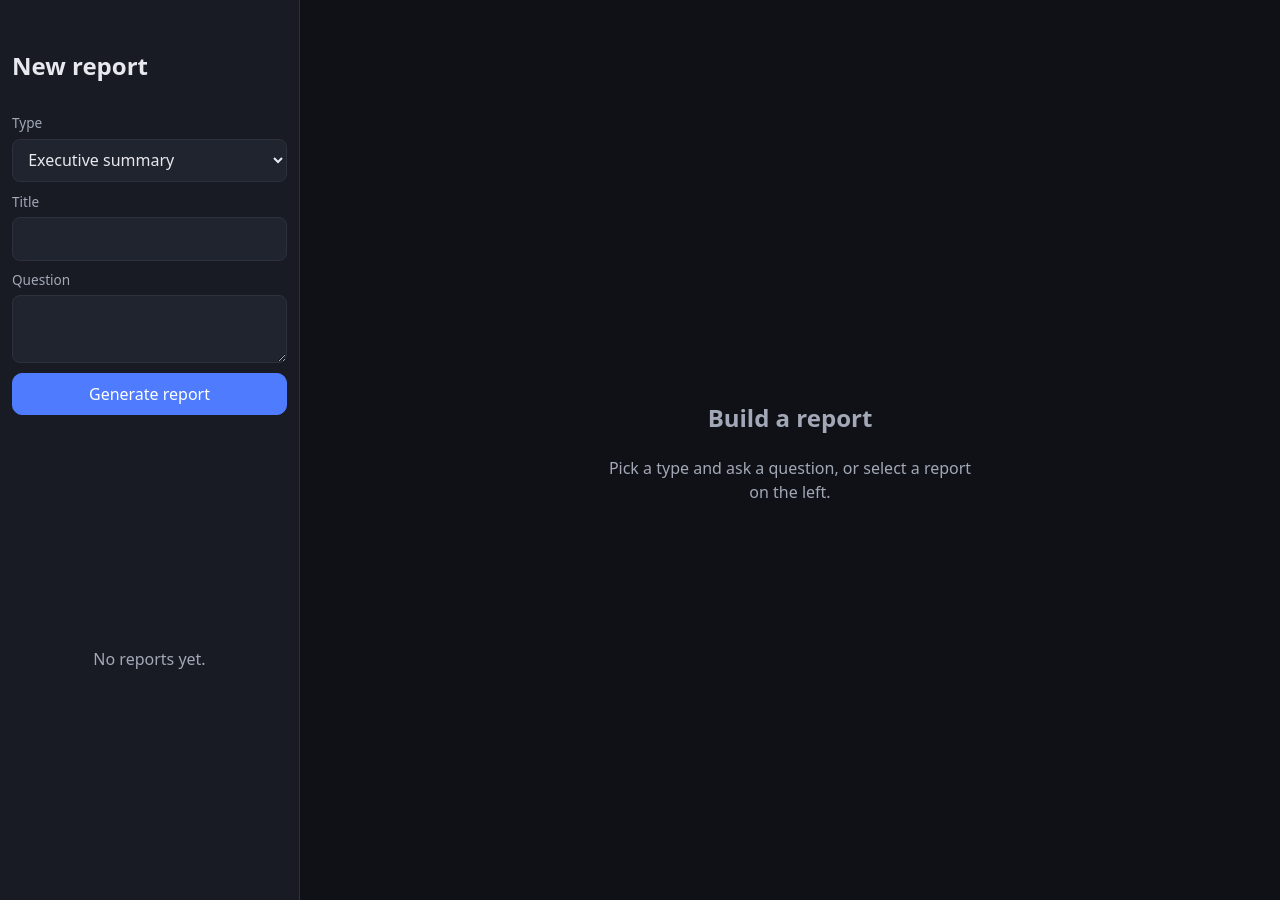
Scenario: report builder › has no axe violations on a ready report
Select "Executive summary" in the dropdown labelled "Type" at (150, 160), box [12,139,287,182]
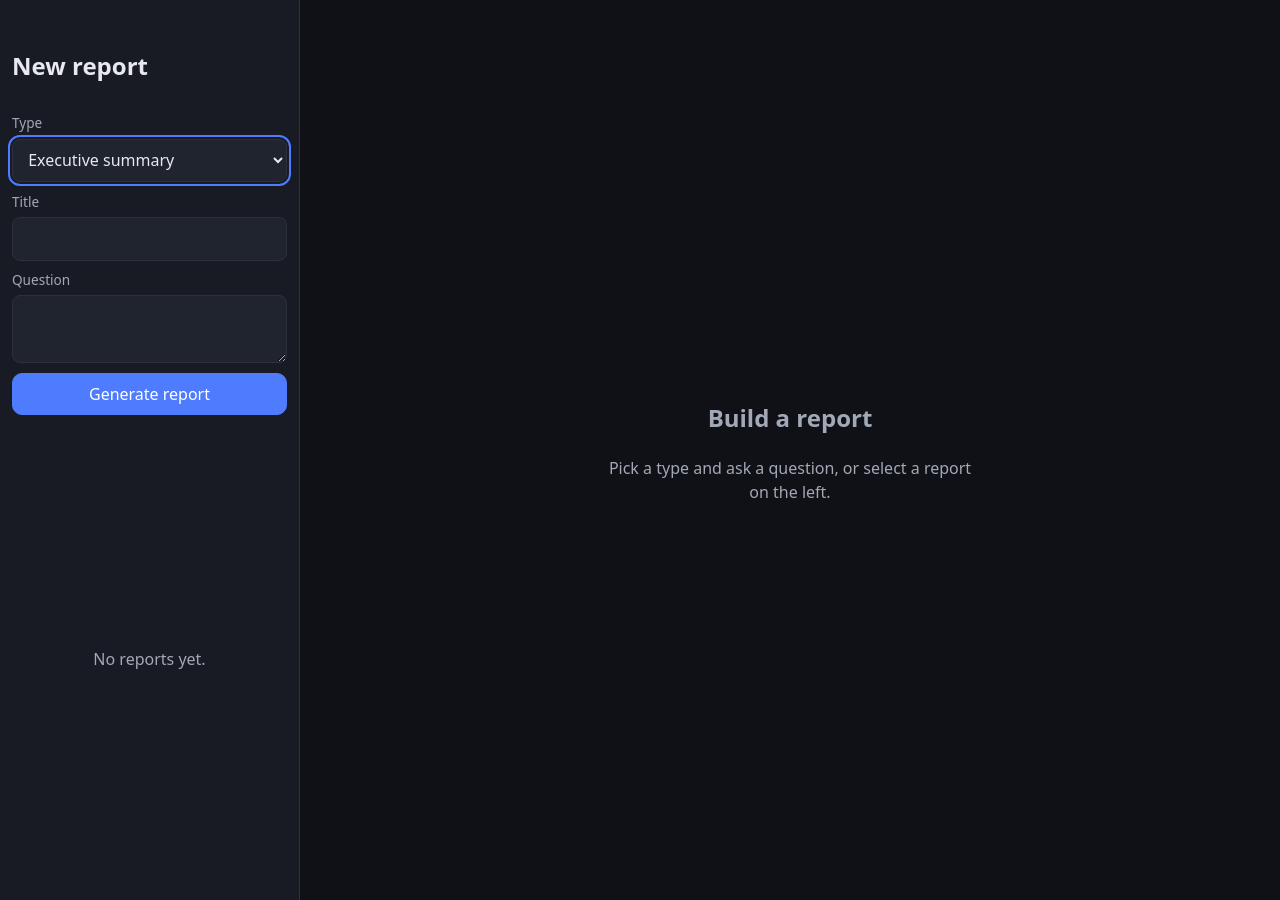
Type "Q3 Review" into the field labelled "Title" at (150, 239), box [12,217,287,261]
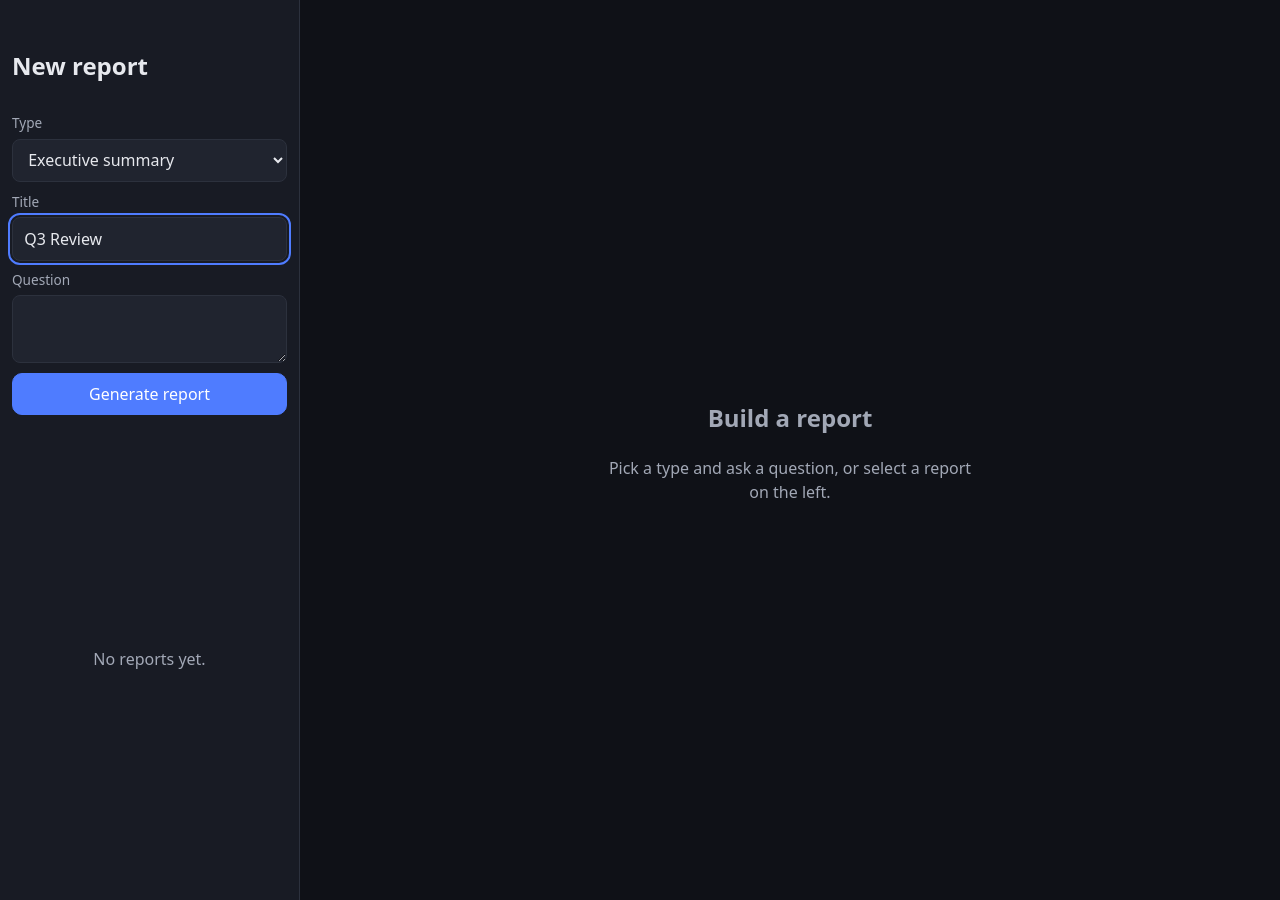
Type "summarize Q3" into the text box labelled "Question" at (150, 329), box [12,295,287,363]
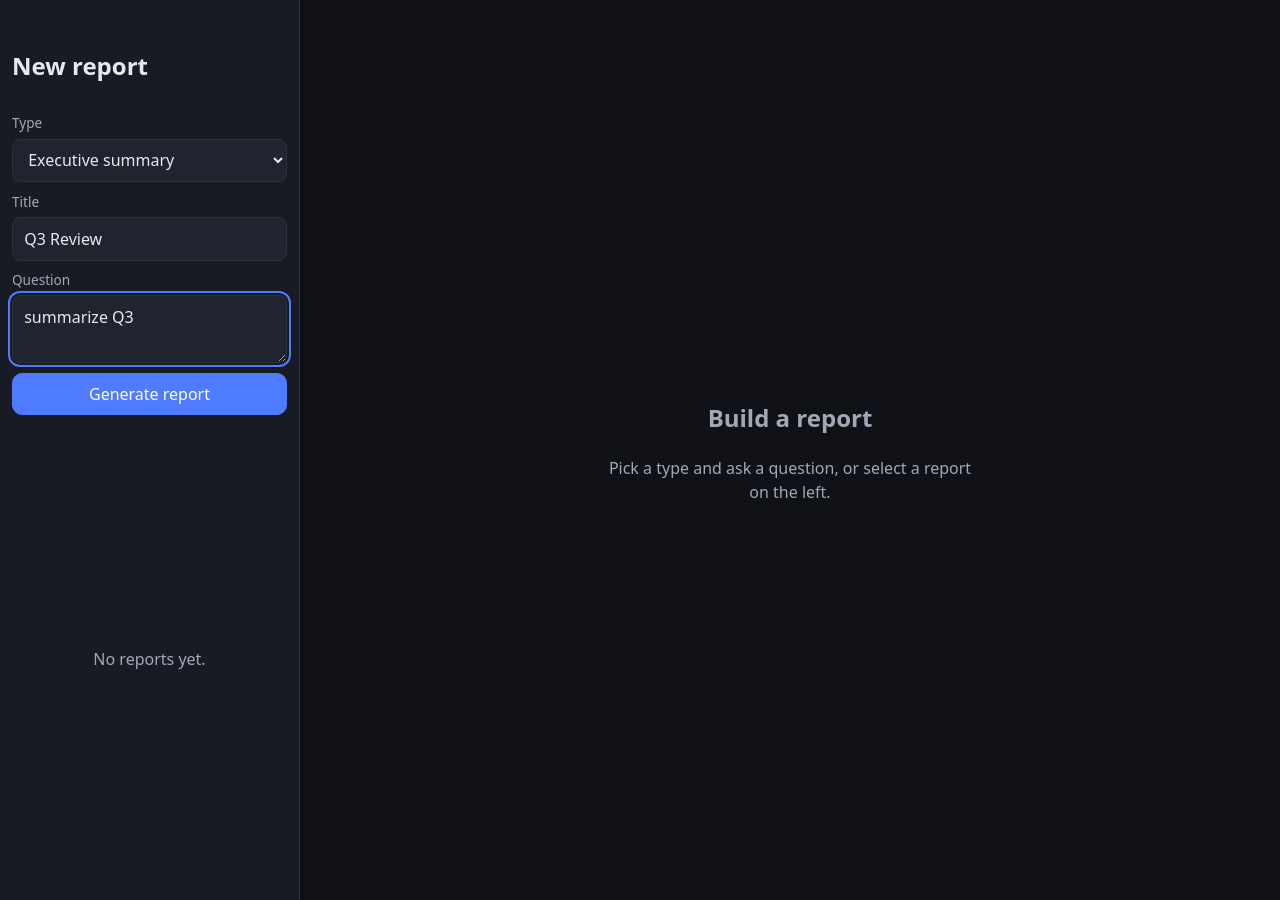
Click the button "Generate report" at (150, 394), box [12,372,287,414]
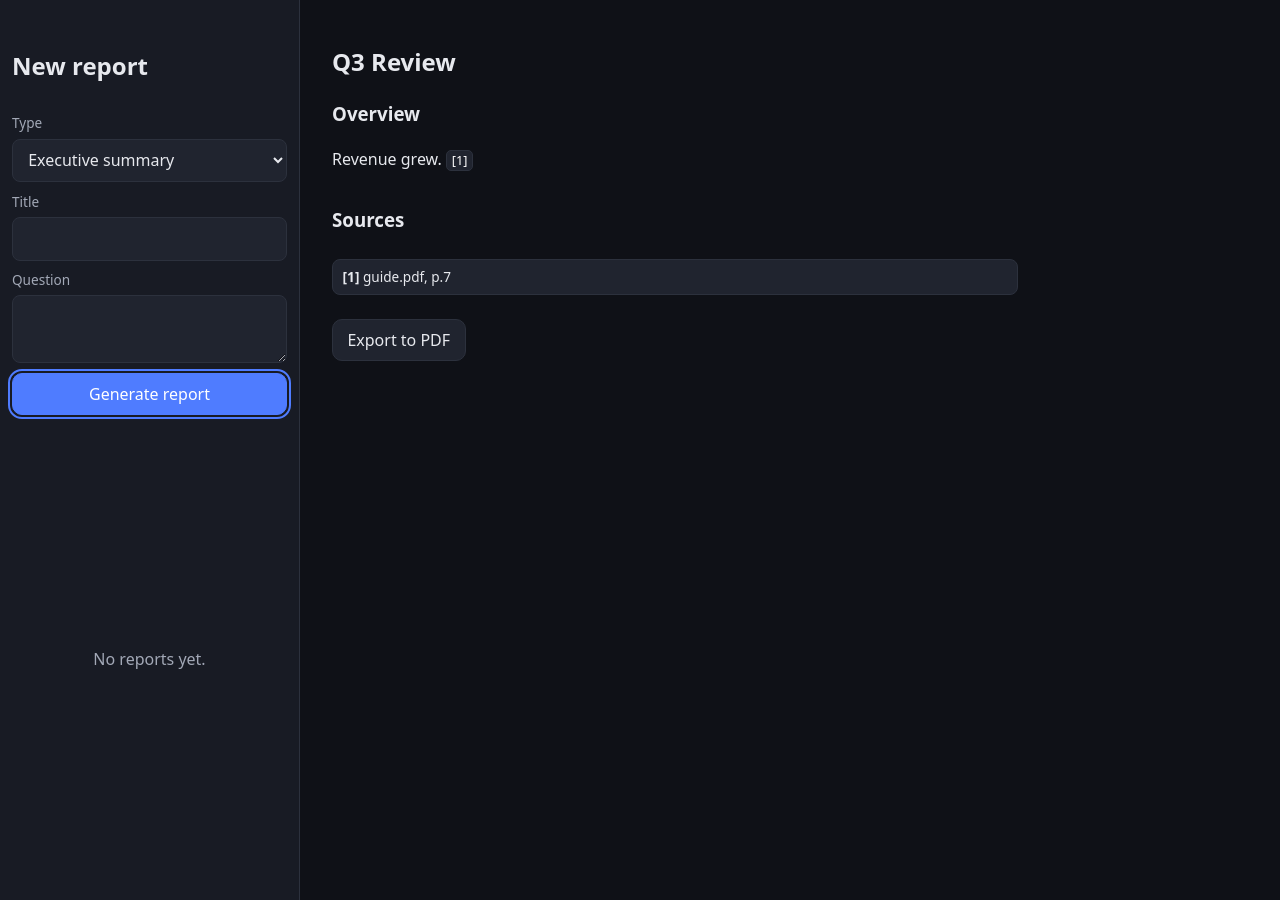
expect the text "Revenue grew." is shown: met, box [332,148,442,170]
